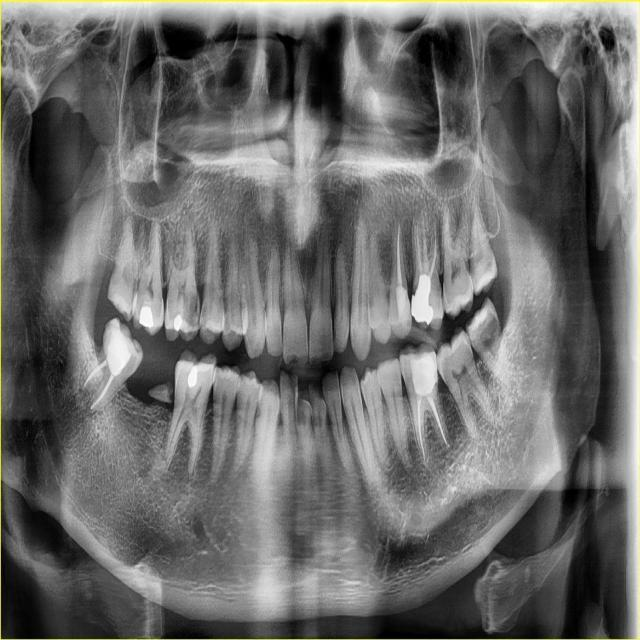72: (148, 382, 172, 403)
74: (425, 393, 449, 448), (79, 357, 111, 391), (89, 374, 116, 412), (427, 221, 441, 281), (416, 393, 426, 463), (412, 219, 424, 273), (395, 223, 403, 286), (423, 216, 429, 272)
NucleOSS Implant: (101, 327, 136, 379), (408, 274, 434, 327), (137, 305, 154, 329), (186, 363, 198, 389), (170, 313, 184, 331)
Sterngold Implant: (180, 286, 203, 330), (480, 314, 504, 345), (197, 302, 211, 331), (255, 400, 264, 425), (174, 391, 182, 410), (484, 259, 493, 275), (411, 280, 419, 295), (333, 325, 339, 341), (438, 289, 443, 303), (471, 337, 477, 346), (442, 292, 446, 303)
Straumann Implant: (409, 351, 441, 398), (395, 284, 413, 333)
